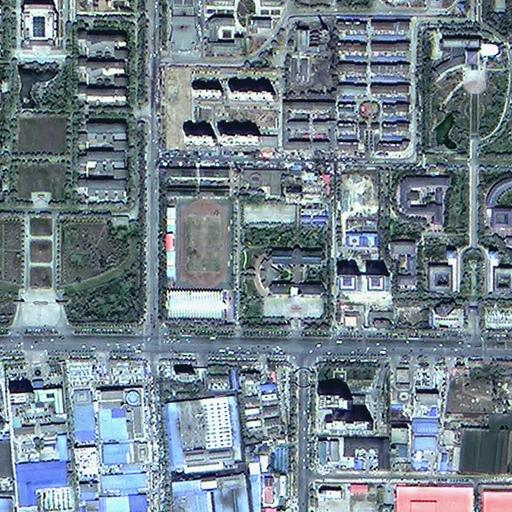school: (156, 162, 334, 325)
